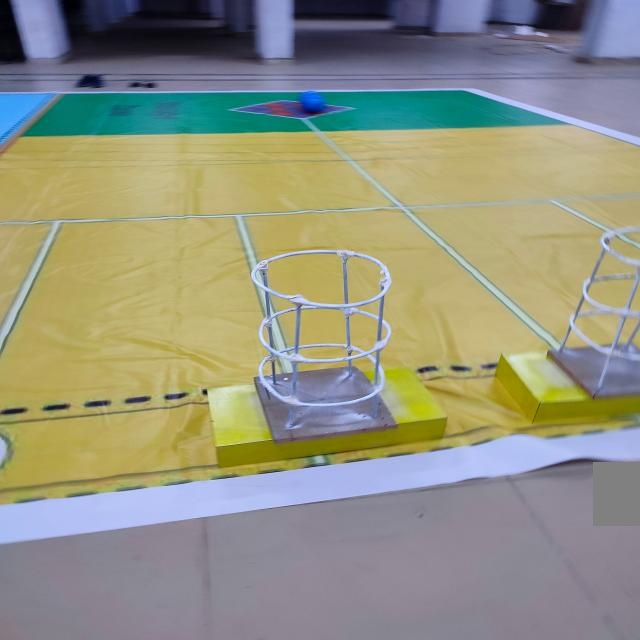silo: (254, 242, 396, 433), (557, 225, 640, 392)
